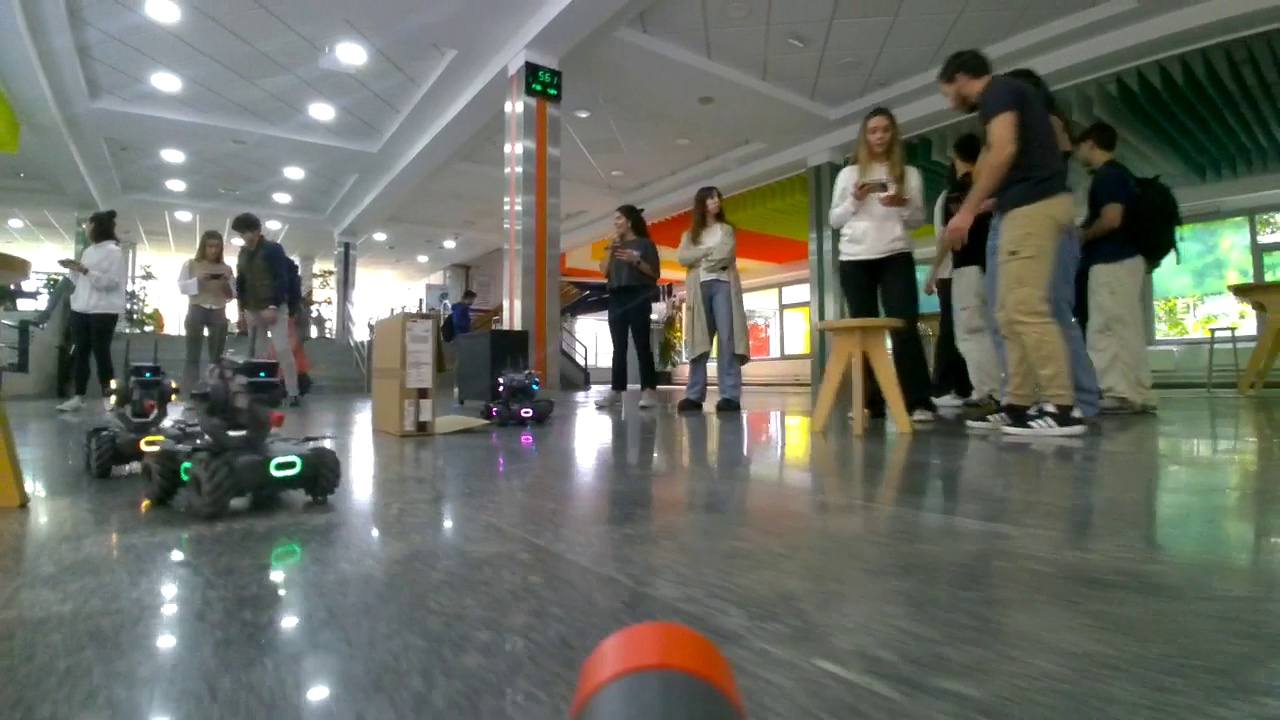robot: (138, 358, 340, 520), (81, 369, 184, 483), (476, 370, 549, 425)
